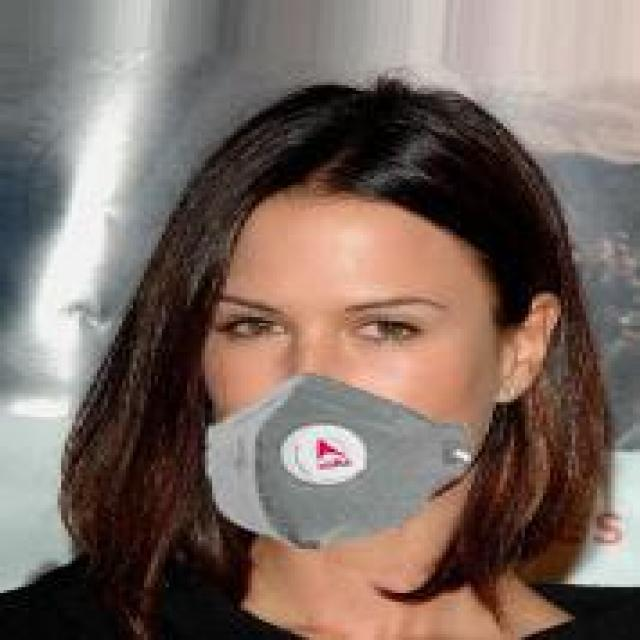mask: (147, 74, 579, 543)
